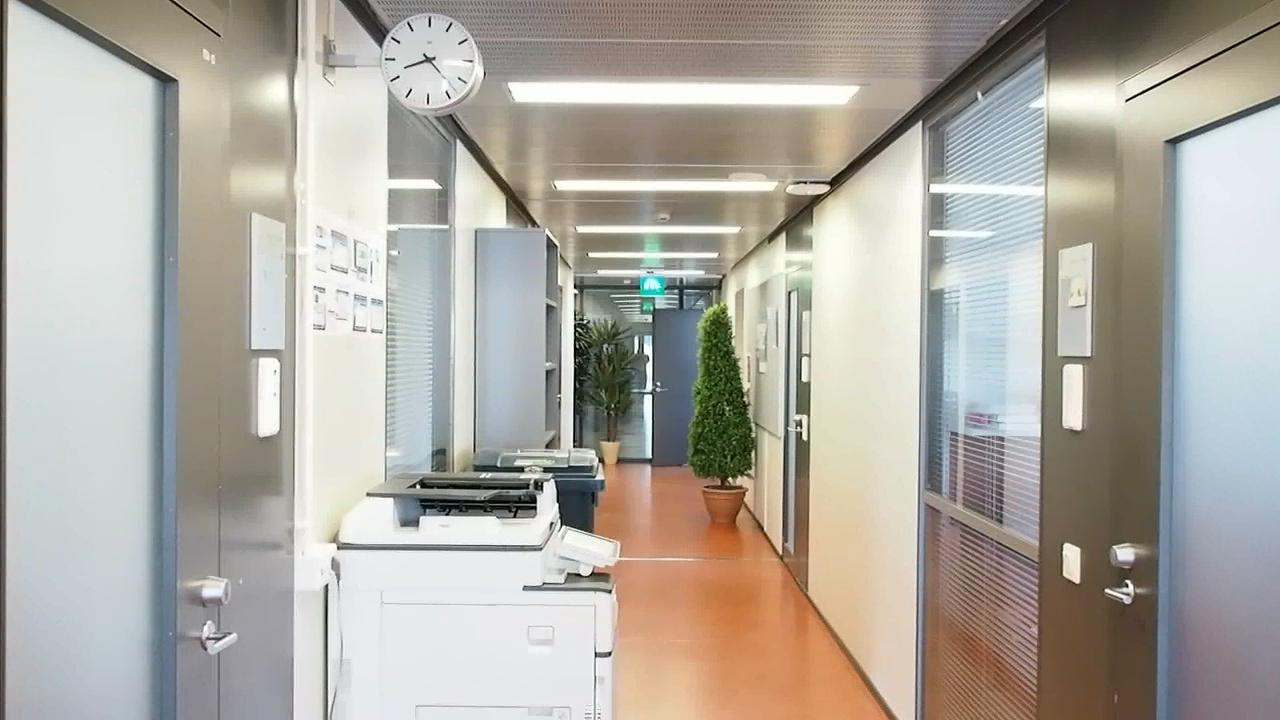clock: (377, 12, 485, 112)
printer: (324, 467, 628, 718)
